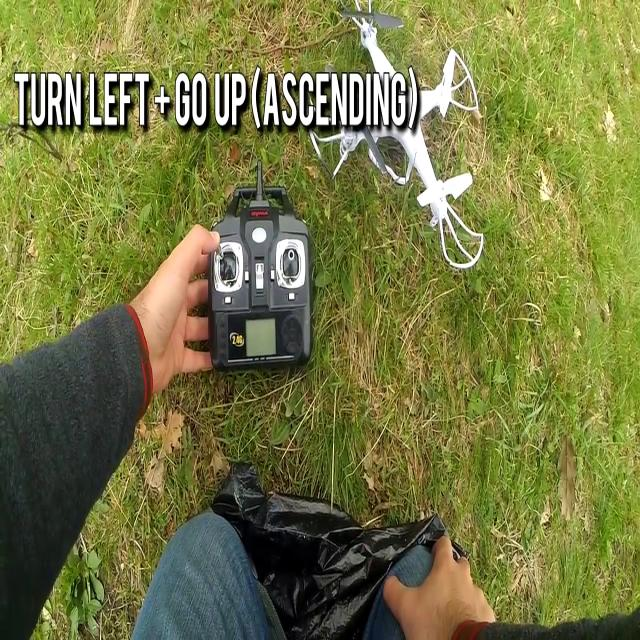drones: (346, 14, 492, 270)
